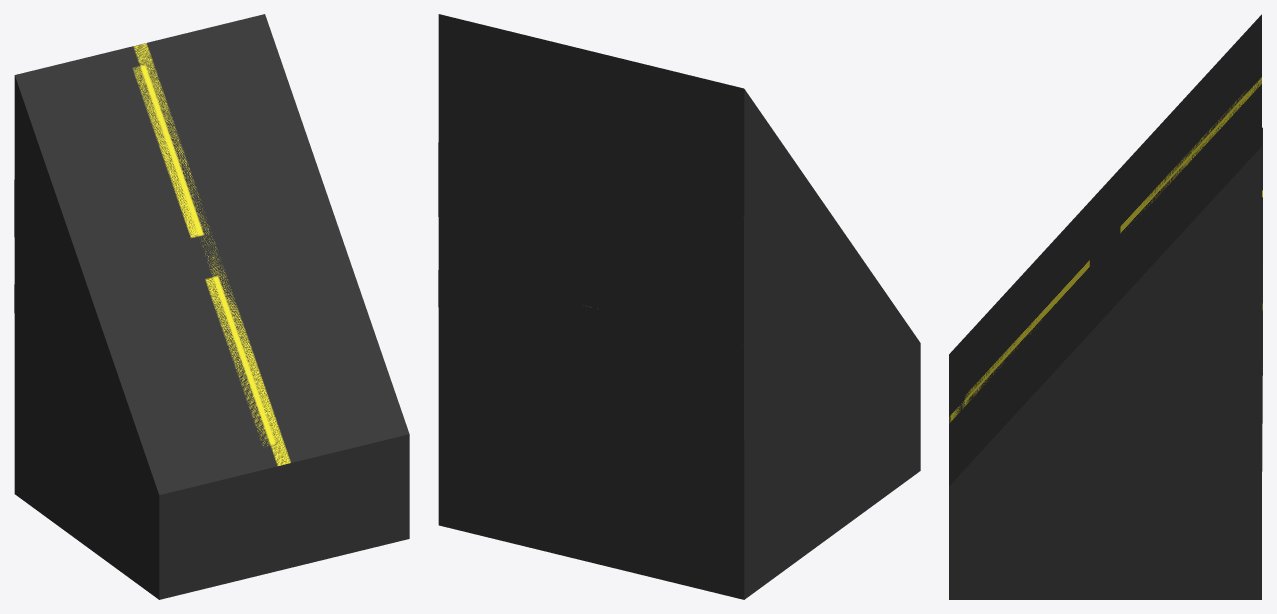
Rendered from Cenarios.fbx_Asfaltos.fbx.
3 renders of one model, left to right at view 1: azimuth 30°, elevation 25°; view 2: azimuth 150°, elevation 25°; view 3: azimuth 270°, elevation 25°, orthographic. The views are drawn at different scales.
Visible parts, largest first — view 1: AsfaltoPontilhado.Incli 12x, AsfaltoCont.Incli 12x, AsfaltoCont, AsfaltoCont-Incli 8x, AsfaltoCurva, AsfaltoPontilhado.Incli 8x, AsfaltoCont-Incli 4x, AsfaltoPontilhado.Incli 4x; view 2: AsfaltoCont.Incli 12x, AsfaltoCont-Incli 8x, AsfaltoCont, AsfaltoCont-Incli 4x, AsfaltoCurva, AsfaltoPontilhado.Incli 12x, AsfaltoPontilhado.Incli 8x; view 3: AsfaltoPontilhado.Incli 12x, AsfaltoCont.Incli 12x, AsfaltoCont-Incli 8x, AsfaltoCont, AsfaltoCont-Incli 4x, AsfaltoPontilhado.Incli 8x, AsfaltoPontilhado.Incli 4x.
Part boxes in pixels (x1,y1,x2,y2): AsfaltoPontilhado.Incli 12x: (14,14,408,494); AsfaltoCont.Incli 12x: (14,14,409,494); AsfaltoCont: (14,389,409,599); AsfaltoCont-Incli 8x: (14,180,158,494); AsfaltoCurva: (159,434,409,599); AsfaltoPontilhado.Incli 8x: (14,180,156,489); AsfaltoCont-Incli 4x: (14,284,157,493); AsfaltoPontilhado.Incli 4x: (14,285,156,492); AsfaltoCont.Incli 12x: (438,14,919,470); AsfaltoCont-Incli 8x: (438,142,918,471); AsfaltoCont: (438,343,920,599); AsfaltoCont-Incli 4x: (438,270,901,471); AsfaltoCurva: (438,397,744,599); AsfaltoPontilhado.Incli 12x: (438,15,919,465); AsfaltoPontilhado.Incli 8x: (439,142,919,468); AsfaltoPontilhado.Incli 12x: (949,15,1261,486); AsfaltoCont.Incli 12x: (949,14,1261,486); AsfaltoCont-Incli 8x: (949,127,1262,486); AsfaltoCont: (949,486,1261,599); AsfaltoCont-Incli 4x: (954,265,1262,486); AsfaltoPontilhado.Incli 8x: (1016,260,1261,486); AsfaltoPontilhado.Incli 4x: (1102,374,1261,486).
Size of the model in its own units: 1000 by 1600 by 1003.
